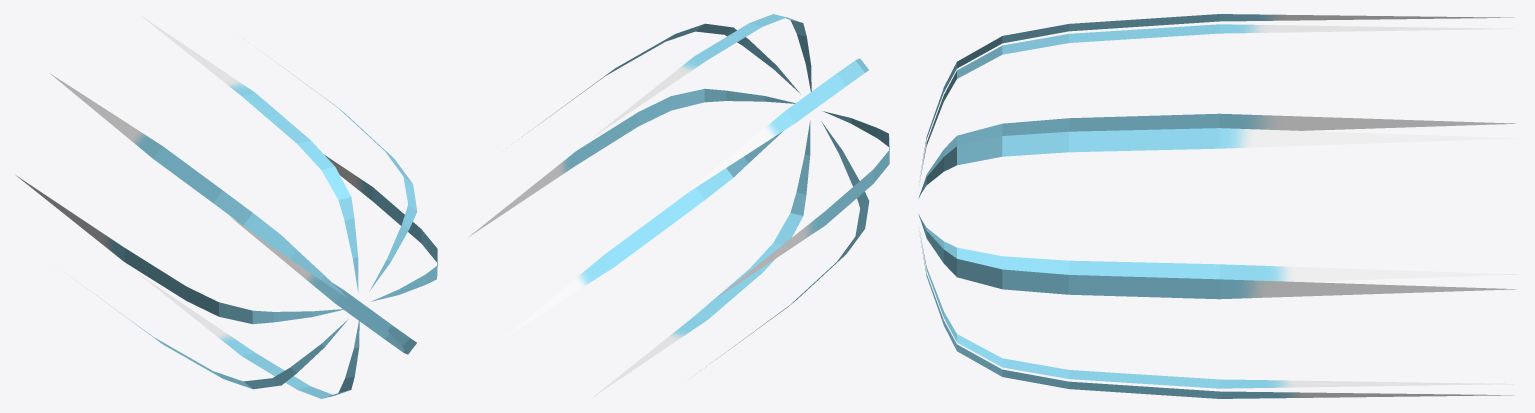
The model's file is wing.obj.
3 renders of one model, left to right at view 1: azimuth 30°, elevation 25°; view 2: azimuth 150°, elevation 25°; view 3: azimuth 270°, elevation 25°, orthographic. The views are drawn at different scales.
Parts seen in each view (by area): view 1: 平面; view 2: 平面; view 3: 平面.
Part boxes in pixels (x1,y1,x2,y2): 平面: (16,15,437,398); 平面: (468,14,889,397); 平面: (918,14,1517,398).
Bounding box in the file's own units: 2.89 × 2.89 × 4.45.
1 material, 1 textured.
